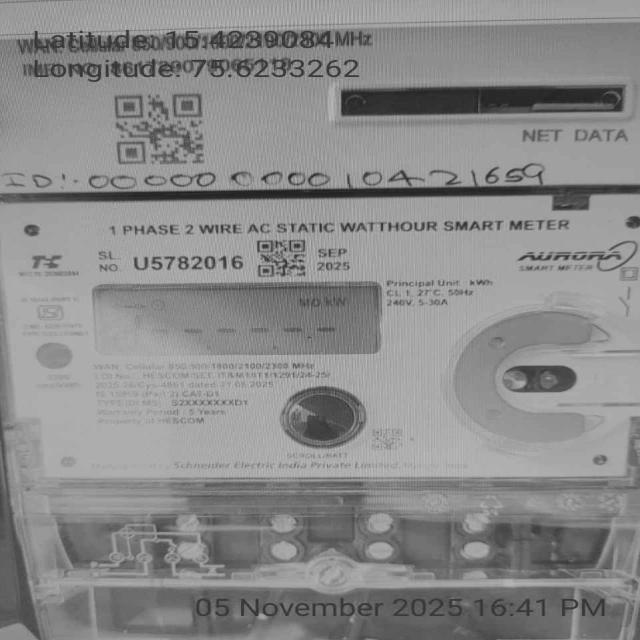meter: (0, 33, 640, 485)
